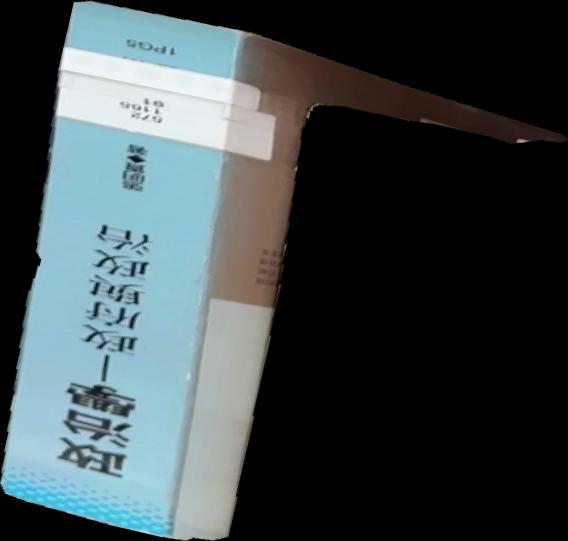reverse: (1, 1, 568, 541)
